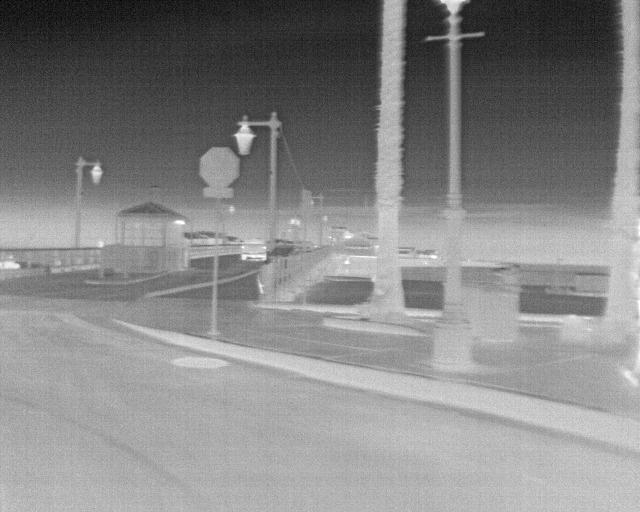car: (238, 234, 269, 264)
